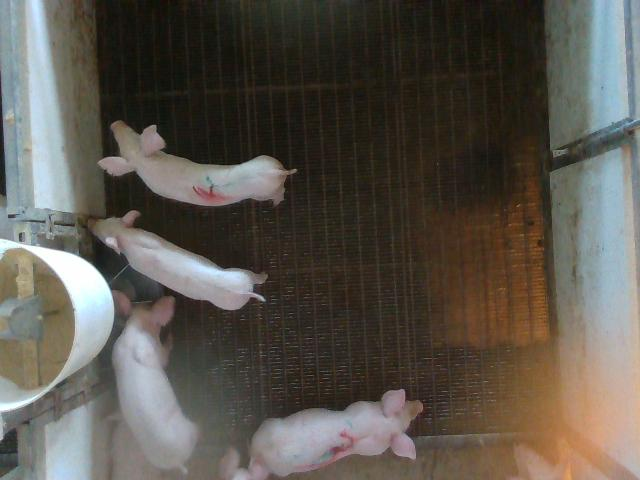pig-3: (250, 389, 422, 476)
pig-4: (99, 121, 296, 206)
